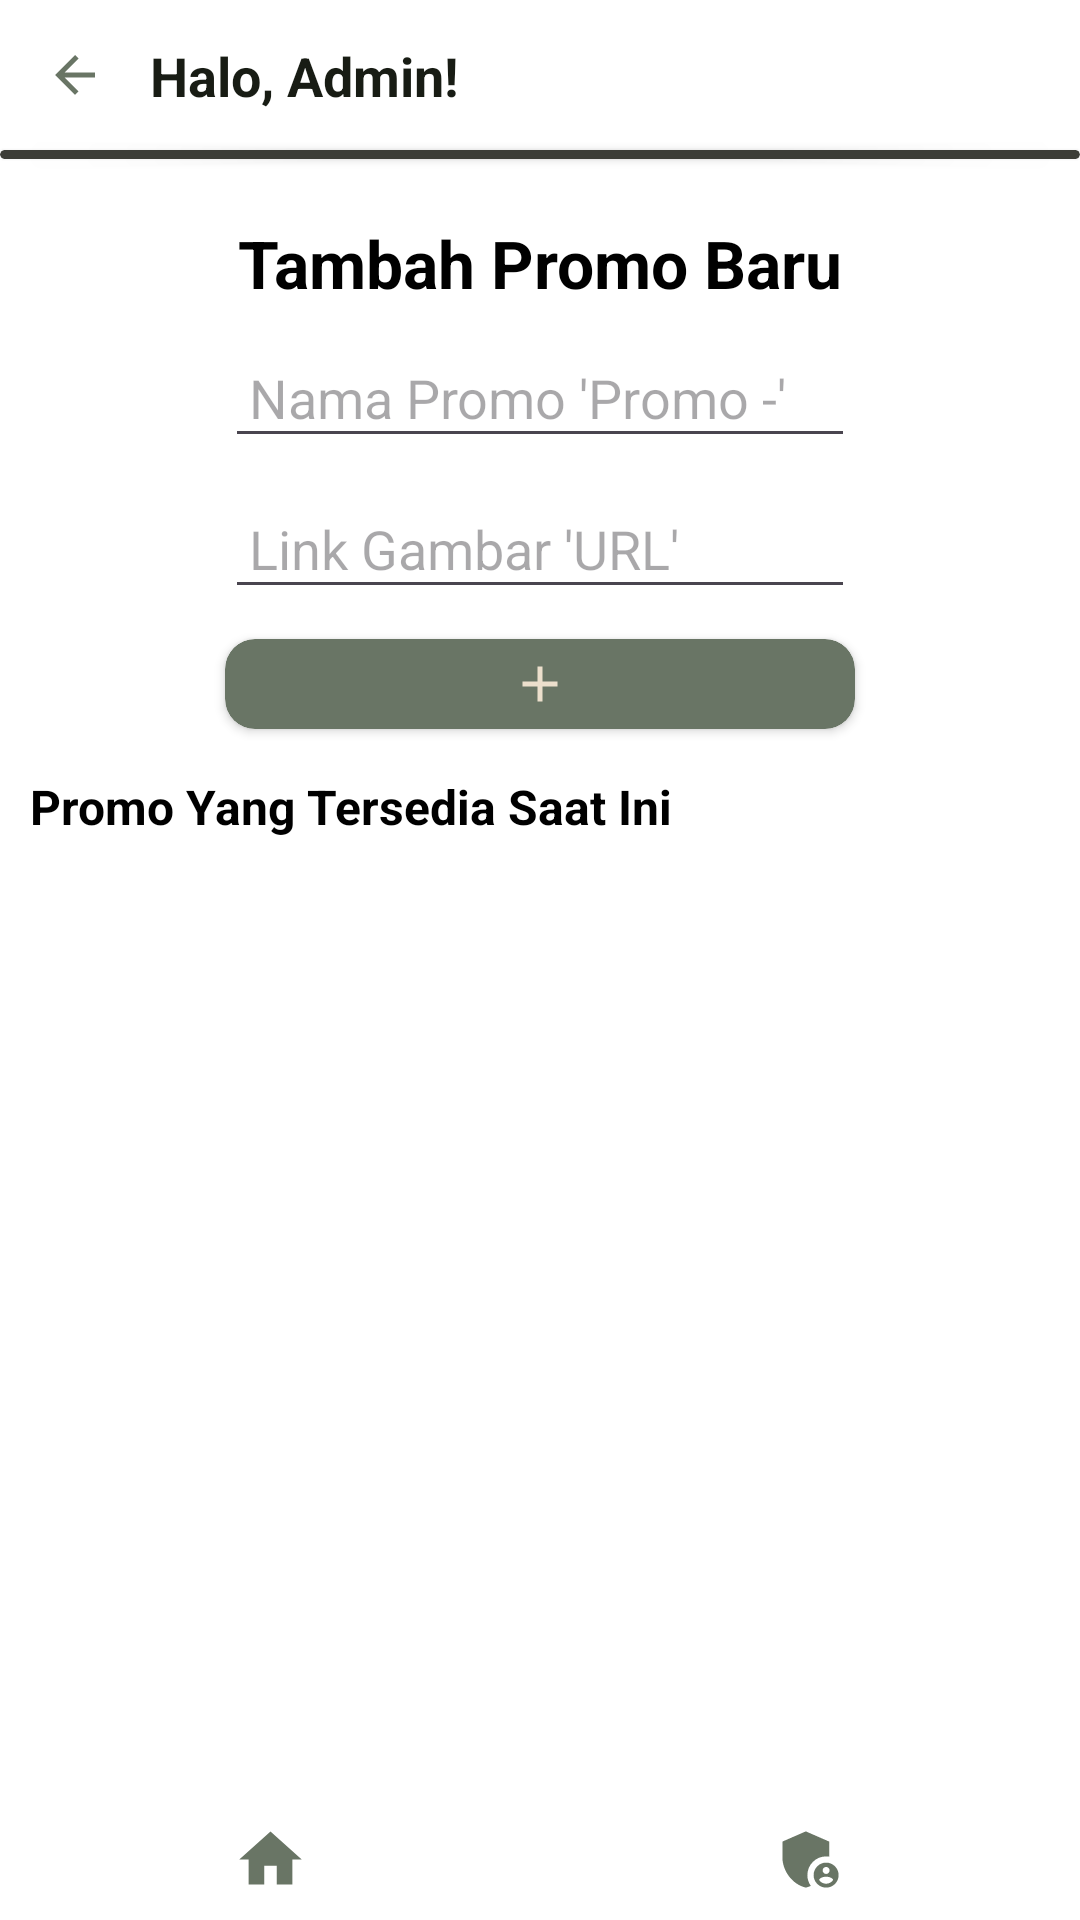

Icons on this 1080px×1920px Android screen, each with the point to tap as (x,y):
admin: (810,1859)
home: (270,1858)
kembali: (75,75)
tambah: (540,684)
